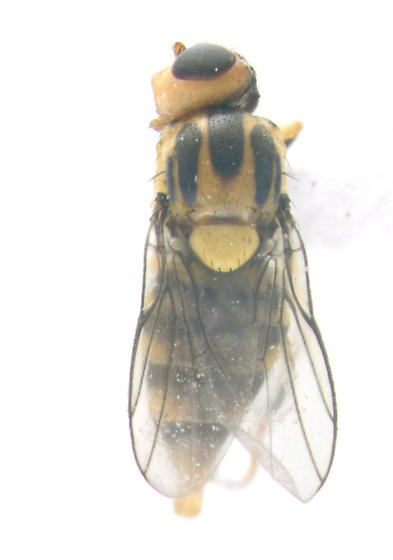Chloropidae: (127, 28, 336, 522)
